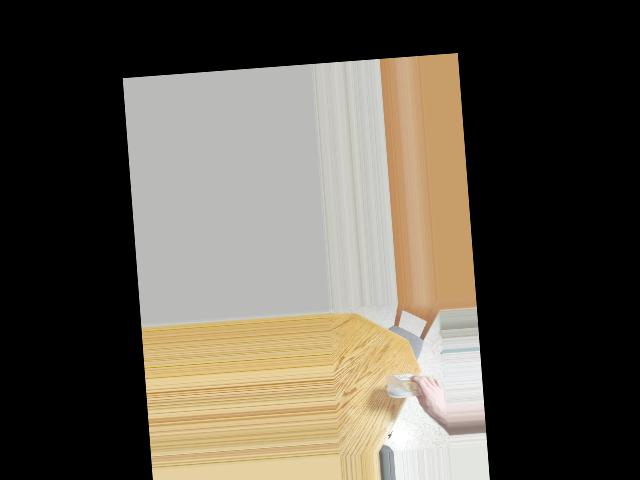cheese: (387, 364, 435, 406)
